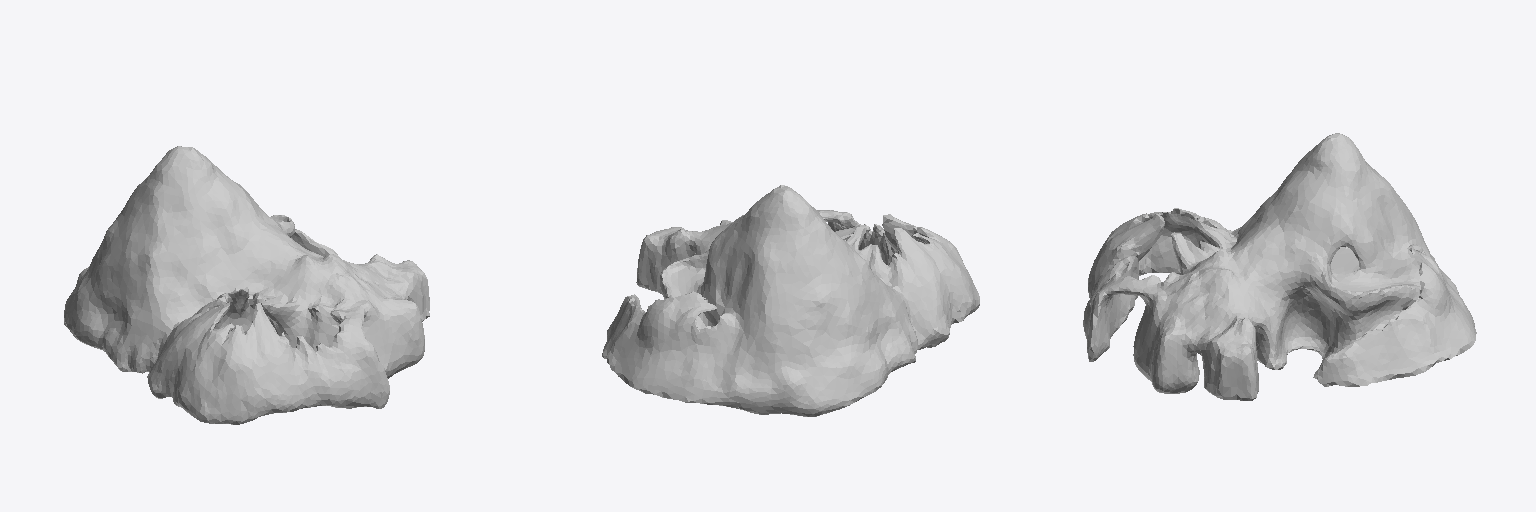
Rendered from rmt.obj.
3 renders of one model, left to right at view 1: azimuth 30°, elevation 25°; view 2: azimuth 150°, elevation 25°; view 3: azimuth 270°, elevation 25°, orthographic.
Parts seen in each view (by area): view 1: mt; view 2: mt; view 3: mt.
Part boxes in pixels (x1,y1,x2,y2): mt: (64, 146, 429, 424); mt: (602, 185, 979, 416); mt: (1083, 133, 1476, 400).
Bounding box in the file's own units: 219 × 142 × 256.